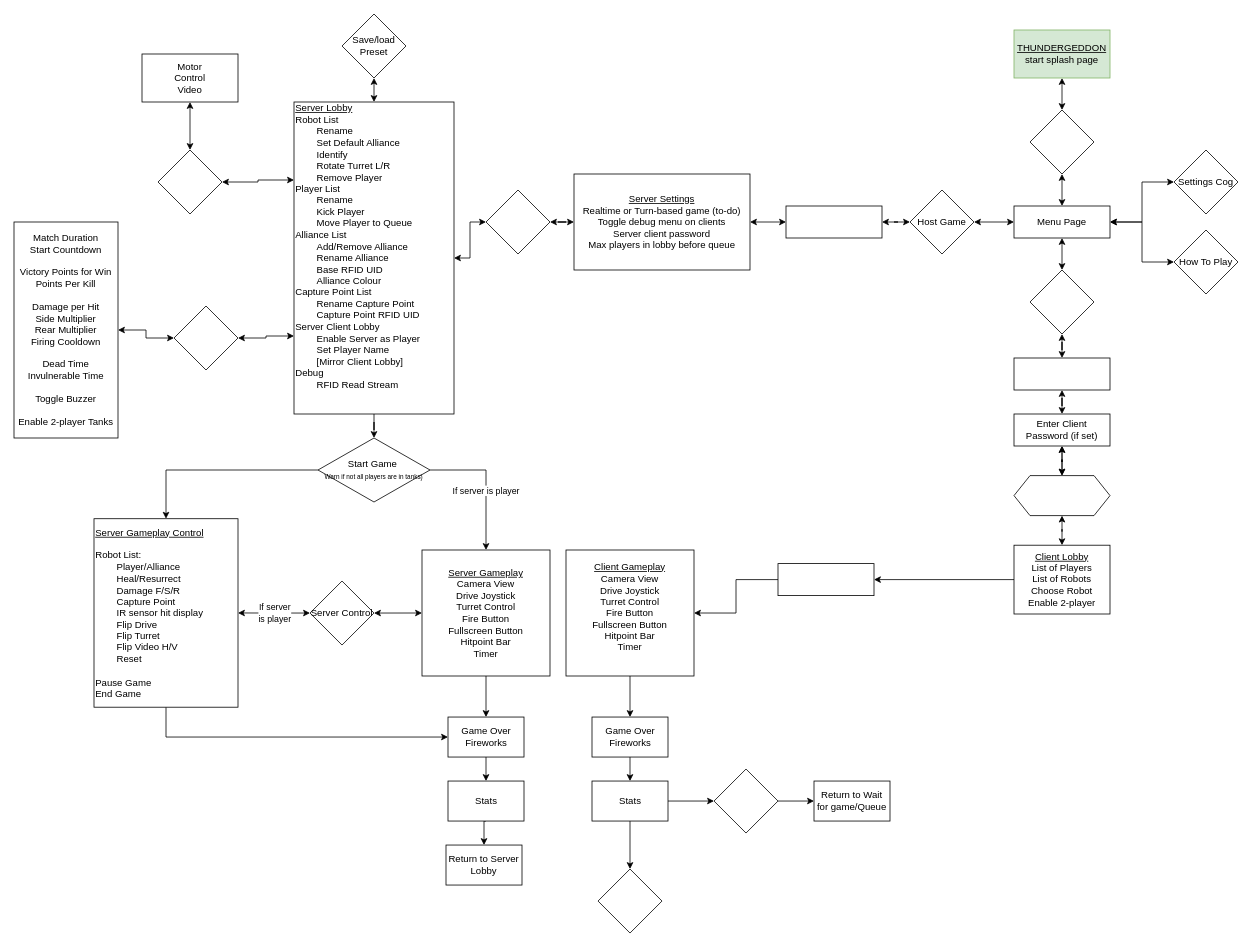
Image size: 1252x947. Some labels were removed from this diagram. Each missing label, with the centre of its shape:
"Advanced Settings" belongs at pixel 189 181.
"Enter Host Password" belongs at pixel 833 221.
"Game Start Countdown" belongs at pixel 825 579.
"Gameplay Settings" belongs at pixel 205 337.
"Join Game" belongs at pixel 1061 301.
"Name Entry" belongs at pixel 1061 373.
"Open Lobby" belongs at pixel 517 221.
"Play Again" belongs at pixel 745 800.
"To Battle!" belongs at pixel 1061 141.
"Visit Thundergeddon.com" belongs at pixel 629 900.
"Wait for game/ Queue" belongs at pixel 1061 495.
